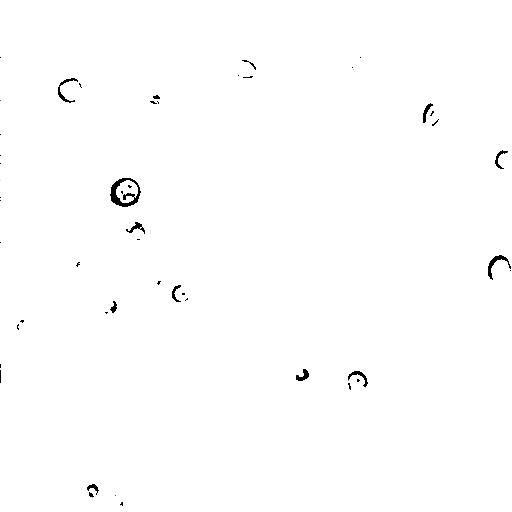micro-algae: (469, 1, 512, 90), (97, 187, 153, 244), (57, 249, 91, 280), (111, 175, 142, 208), (359, 87, 388, 117), (103, 484, 133, 511), (485, 255, 511, 285), (57, 77, 86, 103), (147, 271, 173, 297), (229, 58, 259, 79), (422, 101, 444, 129), (1, 359, 22, 385), (169, 283, 196, 303), (345, 371, 368, 394), (347, 51, 369, 74), (123, 219, 146, 240), (97, 295, 119, 315), (14, 317, 36, 337), (155, 0, 175, 16), (496, 150, 511, 170), (293, 367, 311, 383), (85, 481, 99, 499), (307, 0, 334, 8)
